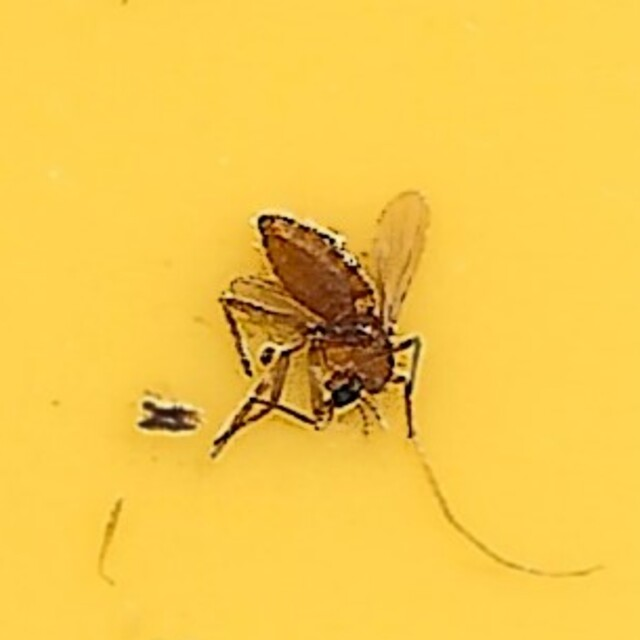Nematocera: (210, 194, 430, 446)
